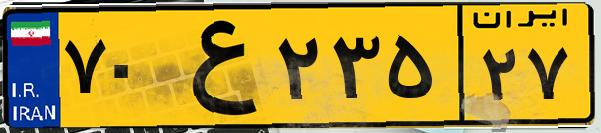0: (110, 28, 158, 98)
2: (270, 28, 330, 110), (475, 38, 525, 113)
3: (330, 28, 385, 110)
5: (385, 28, 445, 110)
7: (57, 26, 110, 100), (525, 38, 570, 115)
ع: (158, 12, 270, 120)
